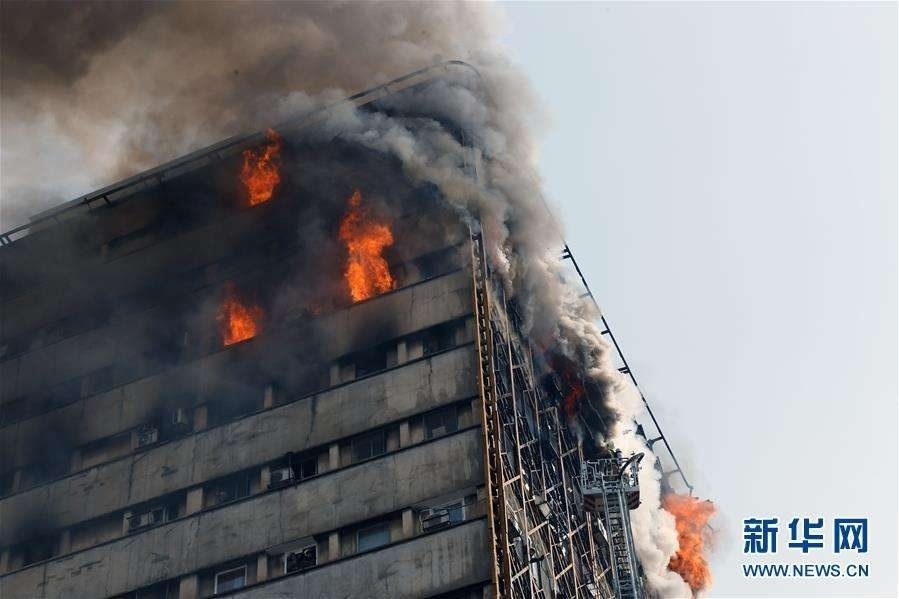fire: (335, 194, 395, 303), (664, 488, 717, 588), (236, 126, 283, 208), (212, 287, 265, 349)
